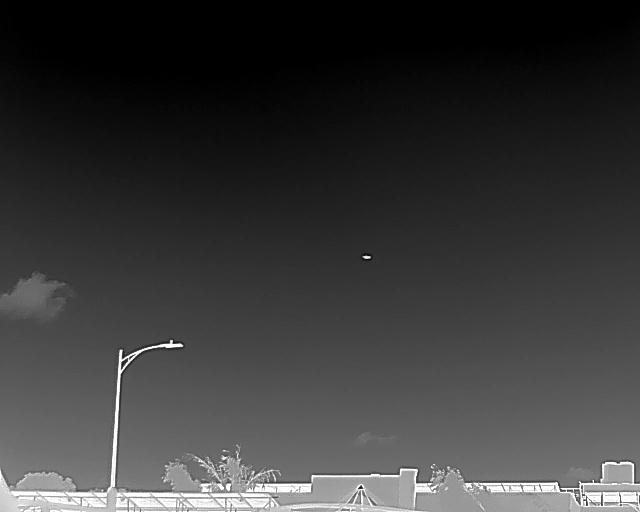fpv-drone: (362, 253, 371, 260)
